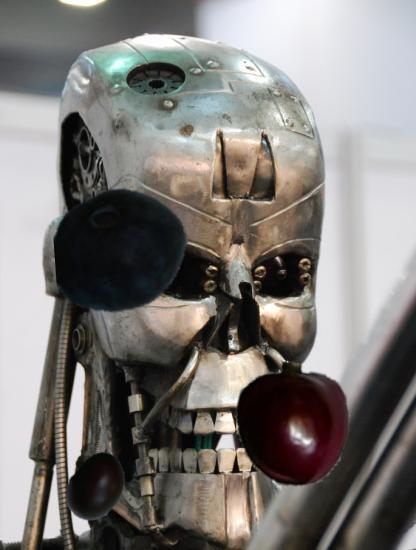Blueberry: (54, 183, 189, 318)
Cherry: (229, 363, 353, 487)
Eggplant: (59, 450, 133, 524)
